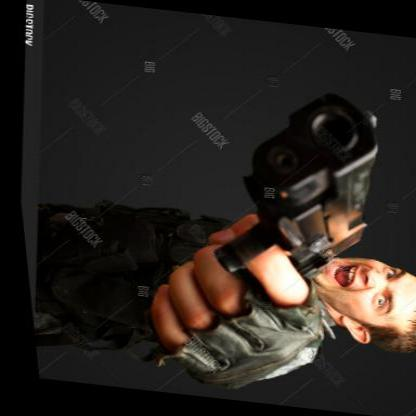pistol: (190, 68, 395, 298)
